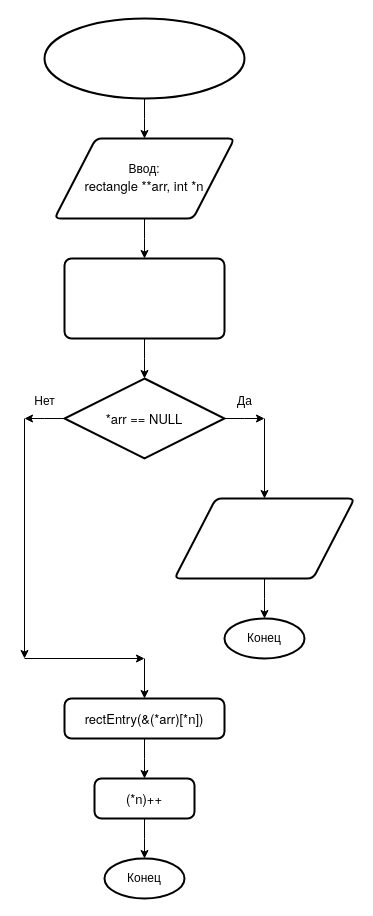
Image size: 373x916. Some labels were removed from this diagram. Here are the shapes that lost their labels. From the top down, the box of each, then its label:
(43, 17, 245, 99): Начало insertRectangle(struct rectangle **arr, int *n)
(63, 257, 225, 339): *arr = realloc(*arr, (*n + 1) * sizeof(struct rectangle))
(173, 497, 355, 579): Вывод: "Ошибка выделения памяти"
